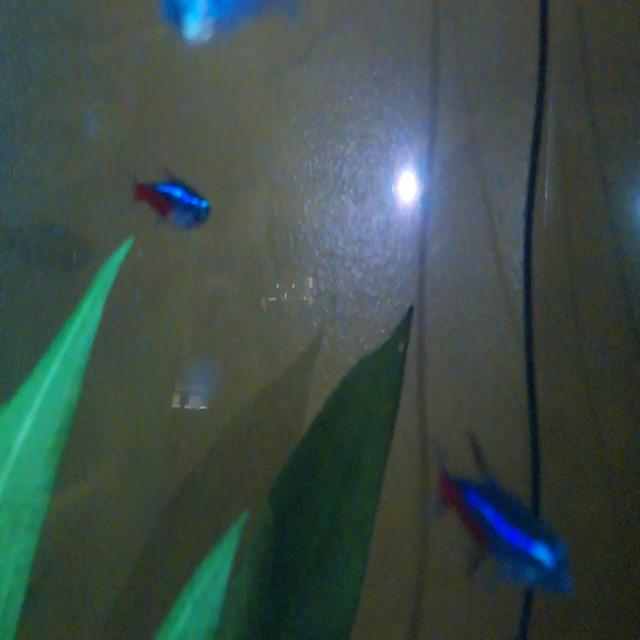fish: (424, 413, 580, 605), (122, 150, 224, 240)
